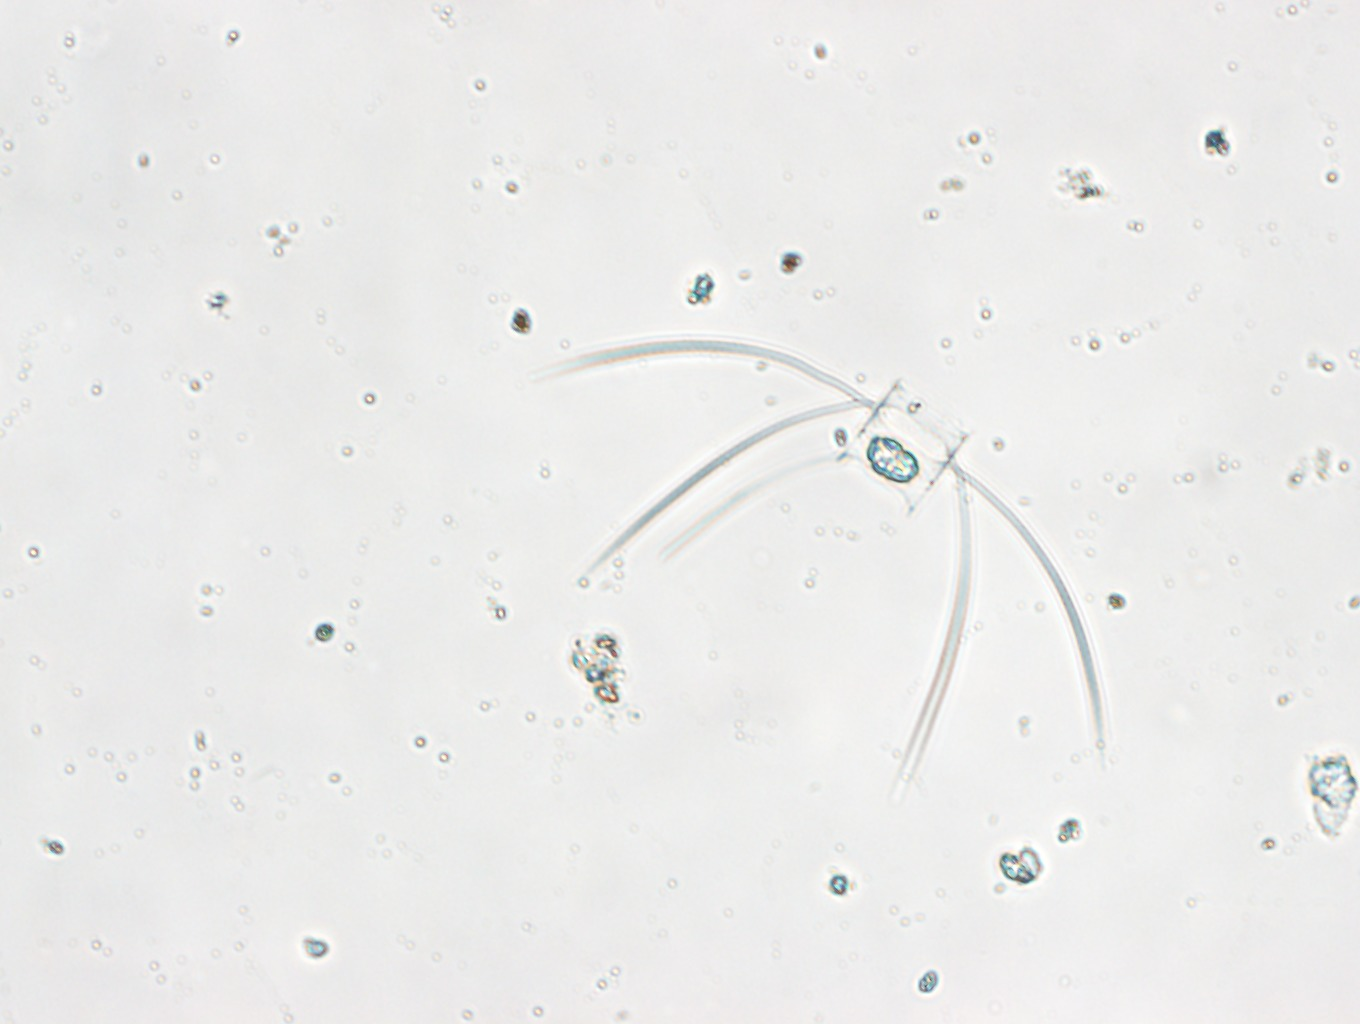chaetoceros: (526, 332, 1104, 801)
